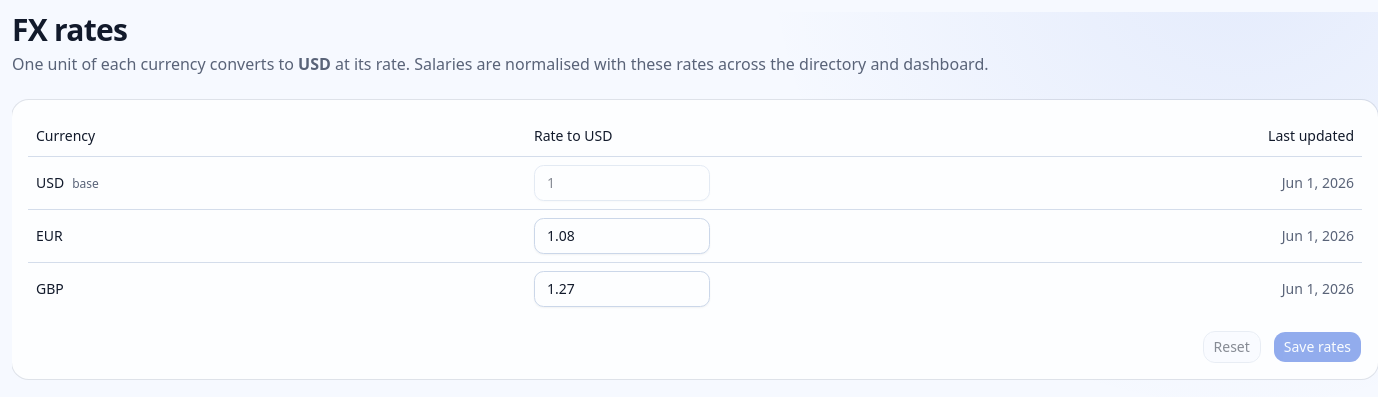
Test case: FxRatesView › saves edited rates as numbers via PUT /fx-rates
Replace the text in the number field named "Rate for EUR" with "1.12" at (622, 236), box [534, 218, 710, 254]
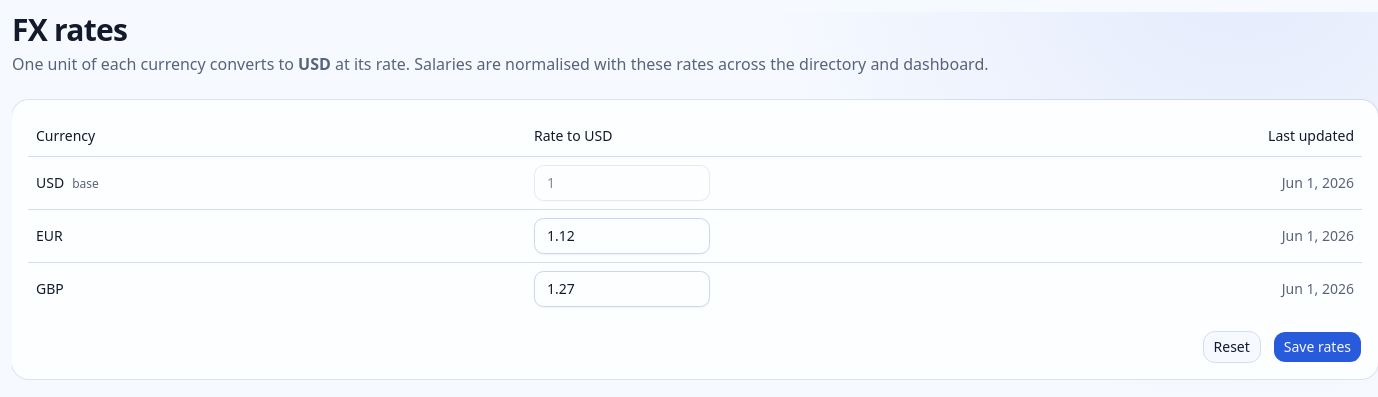
Click the button "Save rates" at (1317, 346), box [1273, 330, 1362, 362]
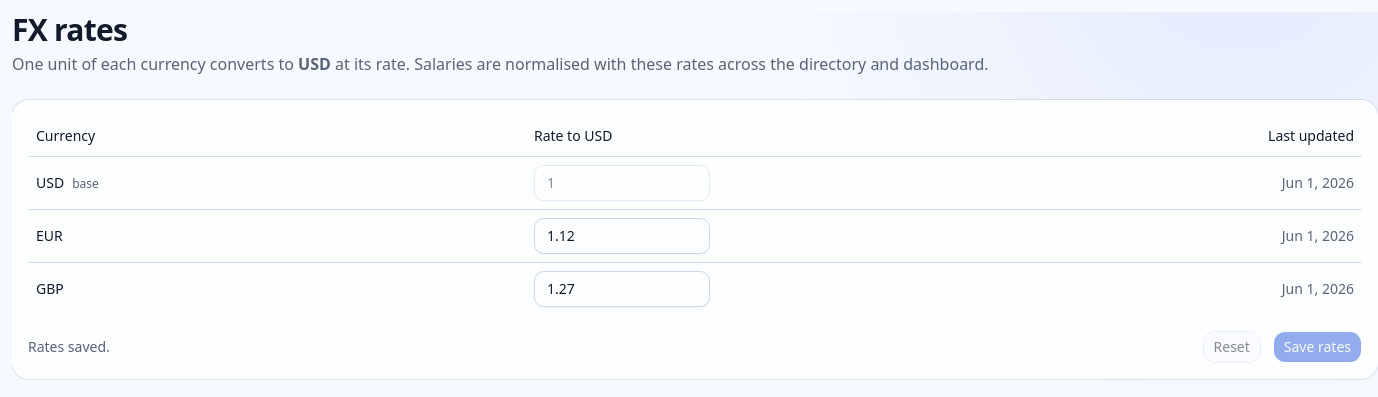
Check: the text "Rates saved." is shown, box [28, 336, 110, 356]
